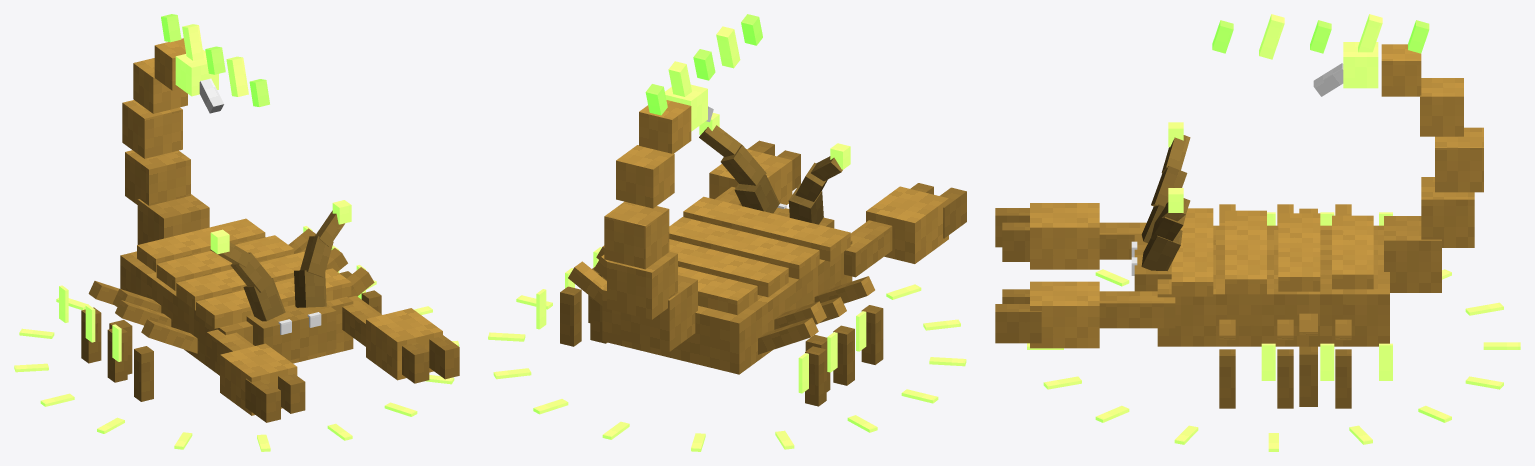
The model's file is scorpion_evo2.glb.
3 views of the same model, side by side, from view 1: azimuth 30°, elevation 25°; view 2: azimuth 150°, elevation 25°; view 3: azimuth 270°, elevation 25° (orthographic). The views are drawn at different scales.
Visible parts, largest first — view 1: Torso, Head, ArmL, ArmR, Root, LegR; view 2: Torso, ArmR, Head, Root, ArmL, LegR, LegL; view 3: Torso, ArmL, ArmR, Head, Root, LegL.
Boxes of the visible parts, x1,y1,x2,y2 form: Torso: [59, 14, 381, 401]; Head: [210, 200, 351, 360]; ArmL: [342, 296, 459, 383]; ArmR: [206, 329, 305, 422]; Root: [14, 280, 459, 451]; LegR: [109, 288, 161, 374]; Torso: [536, 14, 883, 406]; ArmR: [844, 183, 966, 277]; Head: [699, 113, 850, 228]; Root: [488, 284, 966, 451]; ArmL: [709, 140, 800, 205]; LegR: [774, 301, 830, 391]; LegL: [590, 255, 608, 343]; Torso: [1157, 14, 1483, 408]; ArmL: [995, 281, 1175, 348]; ArmR: [995, 203, 1146, 269]; Head: [1131, 122, 1190, 291]; Root: [1027, 269, 1520, 451]; LegL: [1299, 313, 1317, 406].
Bounding box in the file's own units: 2.13 × 1.58 × 2.26.
Materials: 16 (16 with a texture image).
